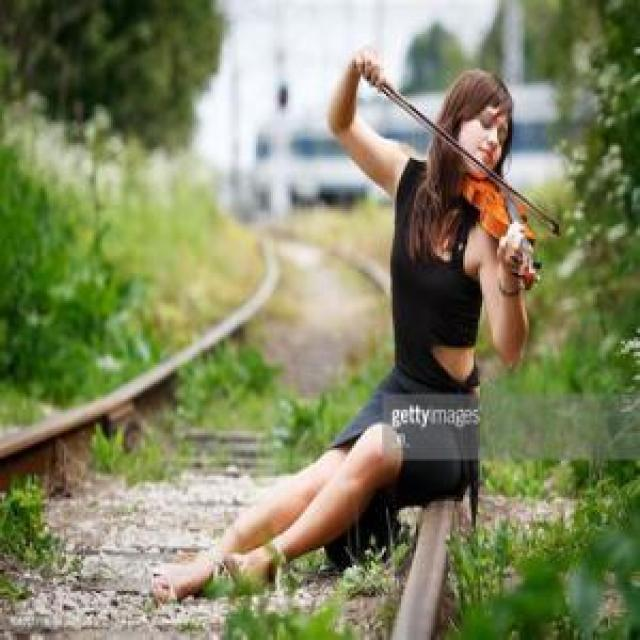danger: (149, 47, 561, 614)
rail: (0, 219, 461, 638)
